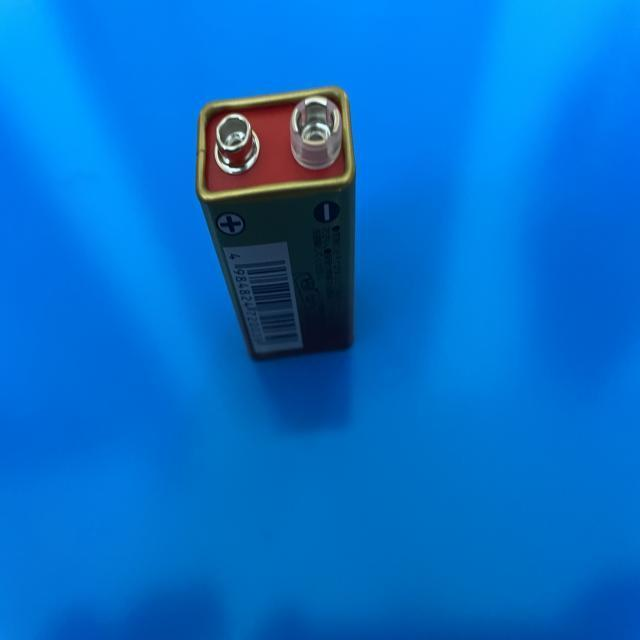9V: (196, 84, 356, 363)
